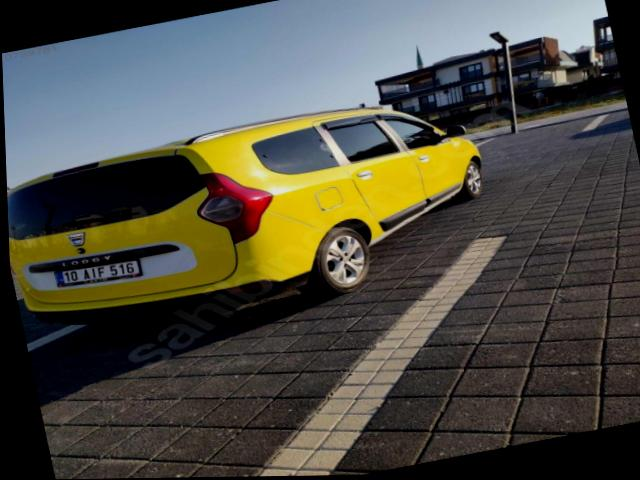plaka: (54, 259, 141, 286)
